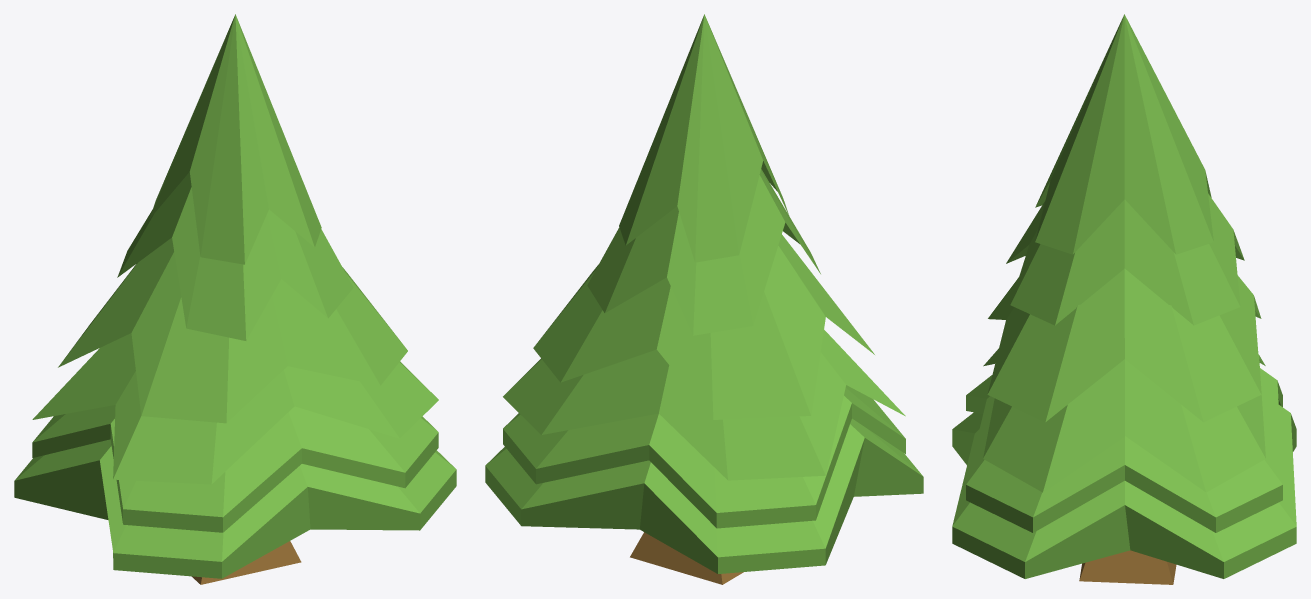
File: TreeType3.fbx
3 views of the same model, side by side, from view 1: azimuth 30°, elevation 25°; view 2: azimuth 150°, elevation 25°; view 3: azimuth 270°, elevation 25° (orthographic).
Visible parts, largest first — view 1: Tree type 3; view 2: Tree type 3; view 3: Tree type 3.
Boxes of the visible parts, left/top/right/bottom form: Tree type 3: left=14, top=14, right=456, bottom=584; Tree type 3: left=485, top=14, right=923, bottom=584; Tree type 3: left=952, top=14, right=1296, bottom=584.
Bounding box in the file's own units: 732 × 1109 × 632.
